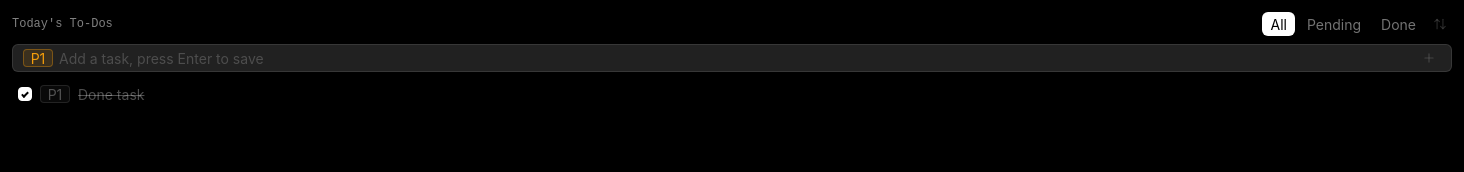
Test: HeaderSchedulePanel › 过滤无结果时展示无匹配文案
Check: the button "Done task" is shown, box [78,84,1386,104]
Click the button "Pending" at (1334, 24), box [1299,12,1369,36]
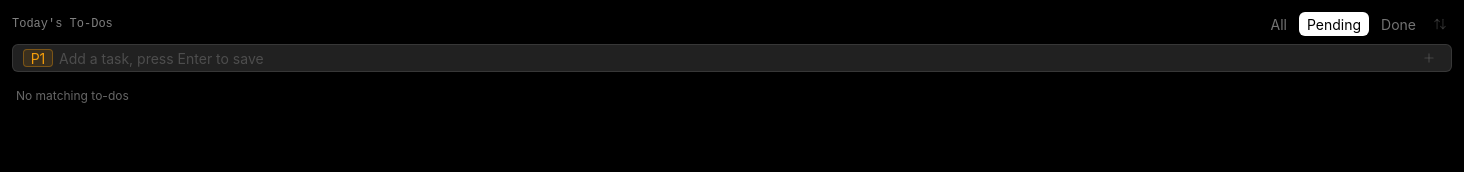
Check: the text "No matching to-dos" is shown, box [16,88,129,103]
